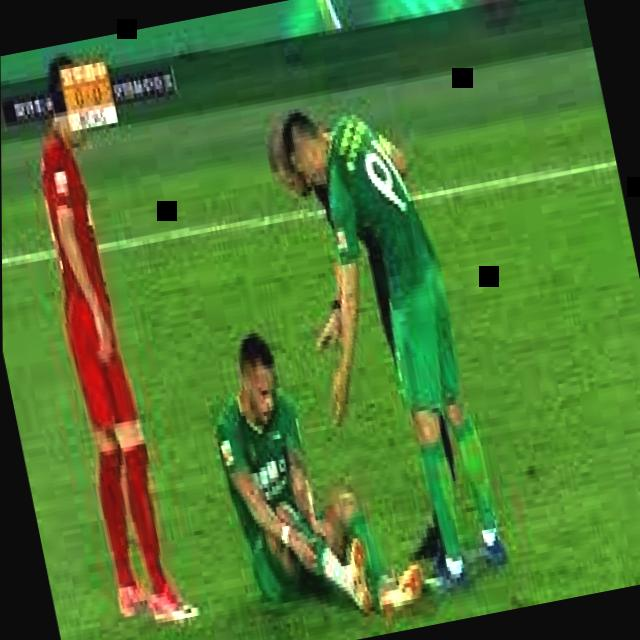Fall-Detected: (183, 281, 435, 640)
